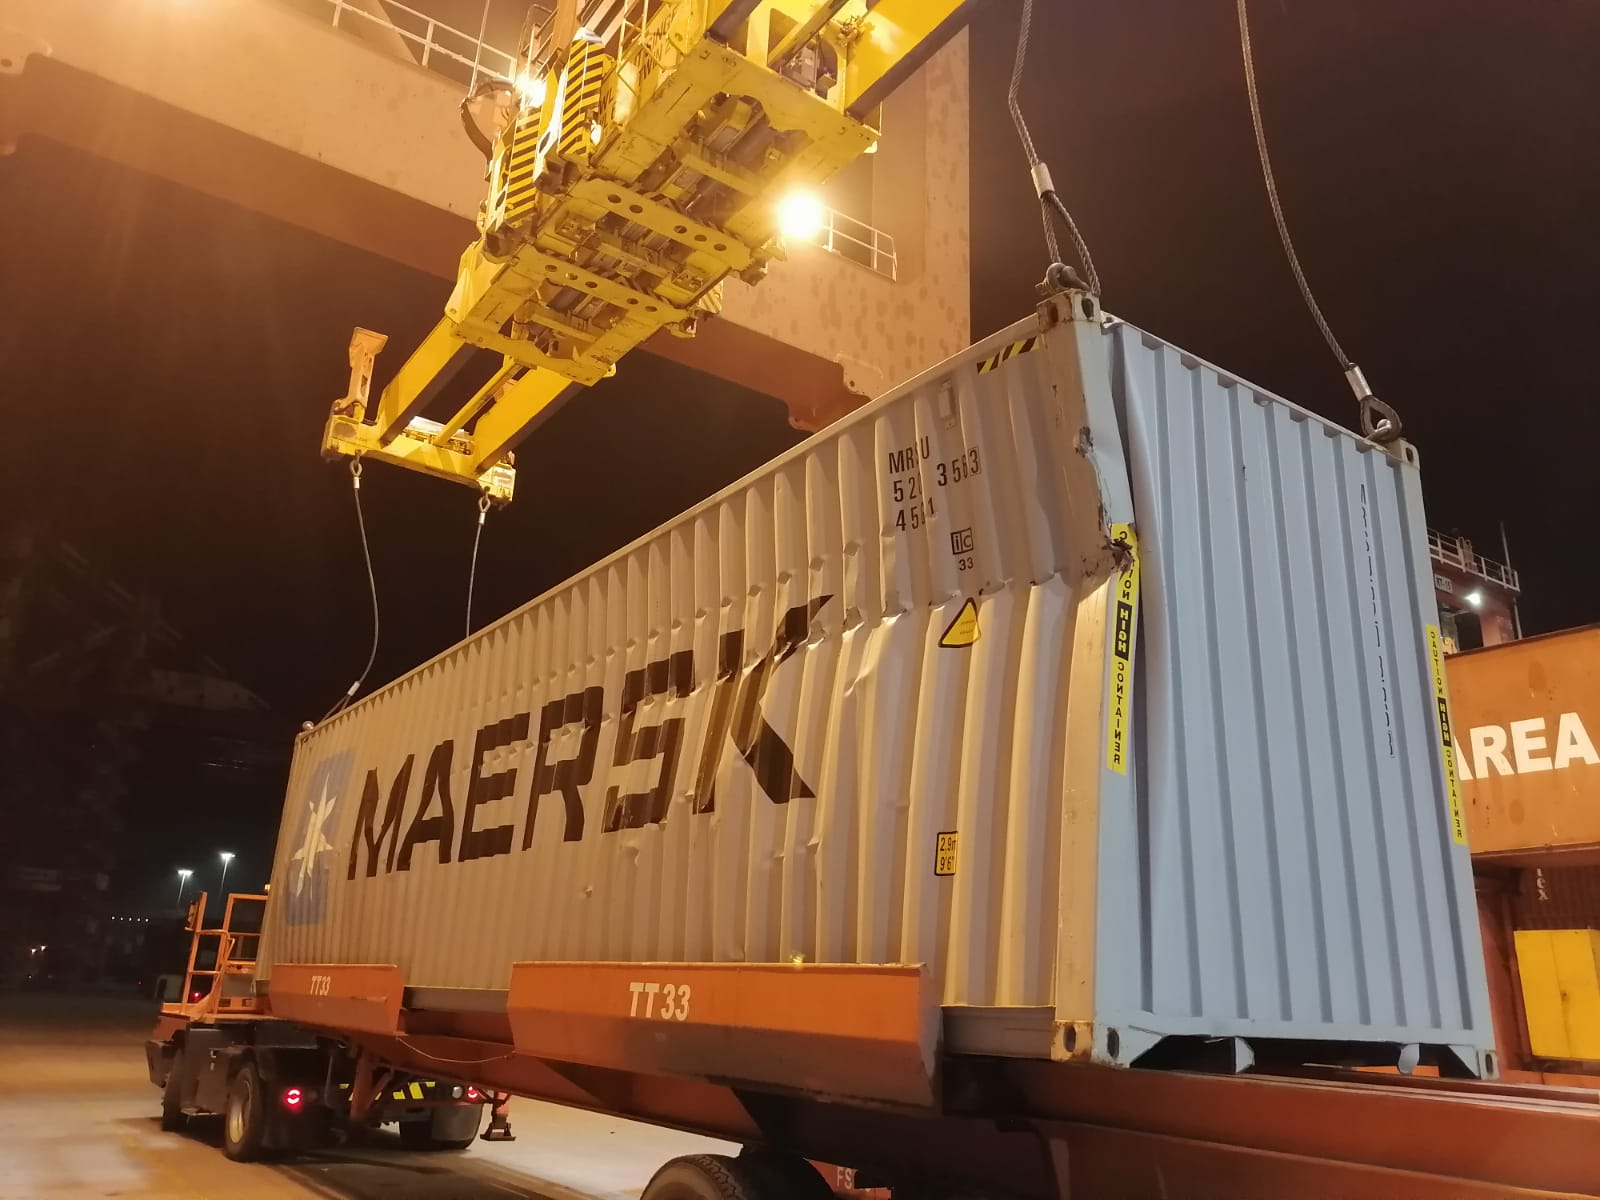bulged: (1036, 321, 1211, 802)
dented: (583, 536, 1141, 734), (530, 773, 737, 929), (733, 823, 842, 890)
